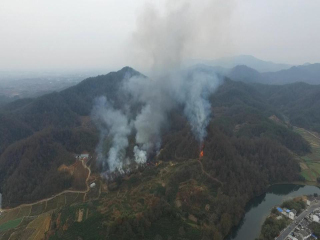smoke: (91, 3, 219, 174)
